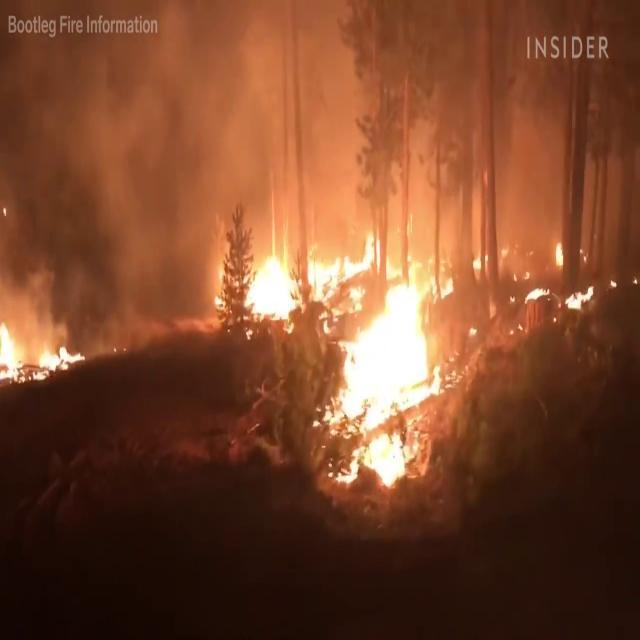Fire: (333, 256, 458, 494), (229, 222, 387, 332), (0, 309, 77, 384), (552, 232, 592, 313)
Smoke: (0, 1, 564, 302)
